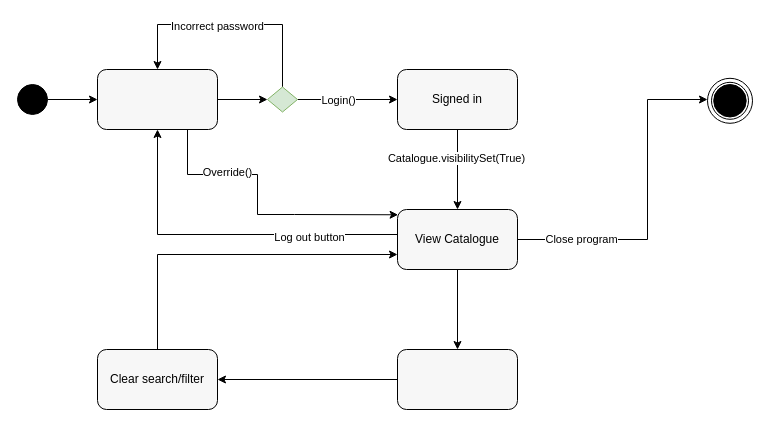
This 770x427 diagram has some shape labels left out. The centre of each missing label's shape, as x and y in pixels:
"Add search/filter" belongs at (x=457, y=379).
"Logged out" belongs at (x=157, y=99).
